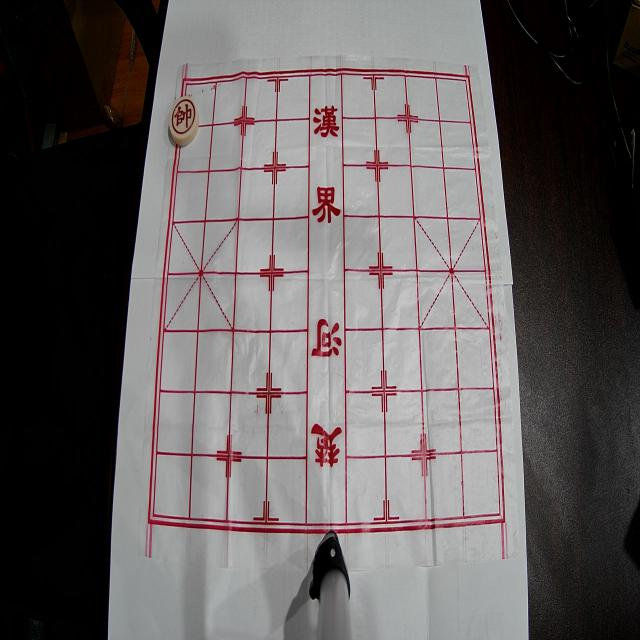red-general: (170, 96, 200, 146)
